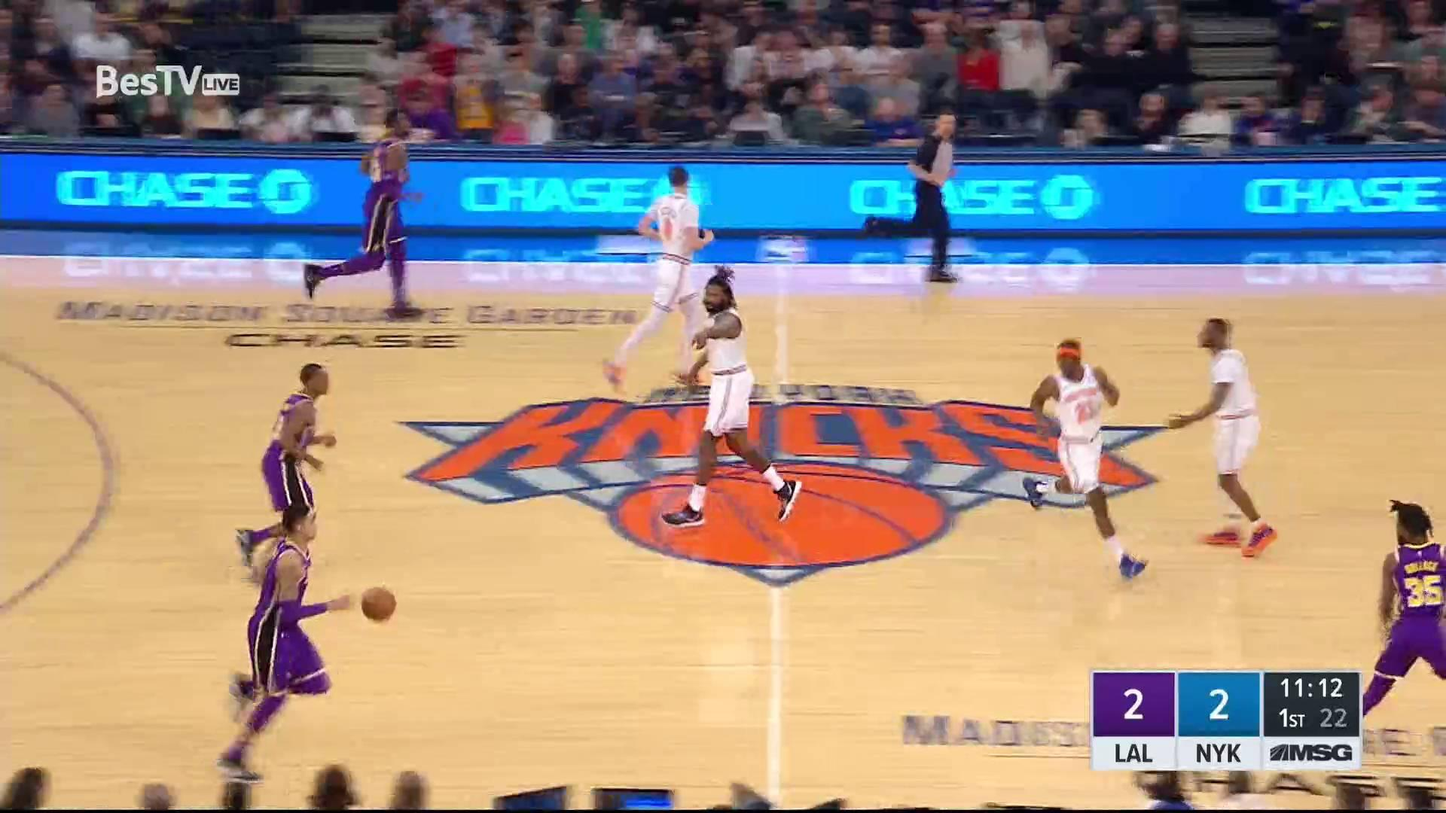basketball: (362, 587, 401, 623)
